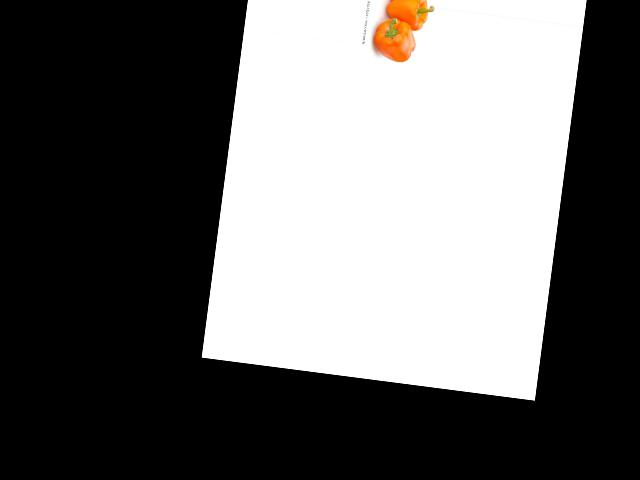bell_pepper: (367, 13, 420, 65)
